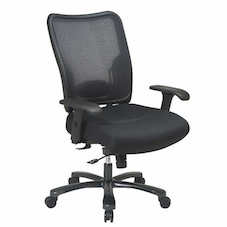chair: (35, 7, 203, 223)
